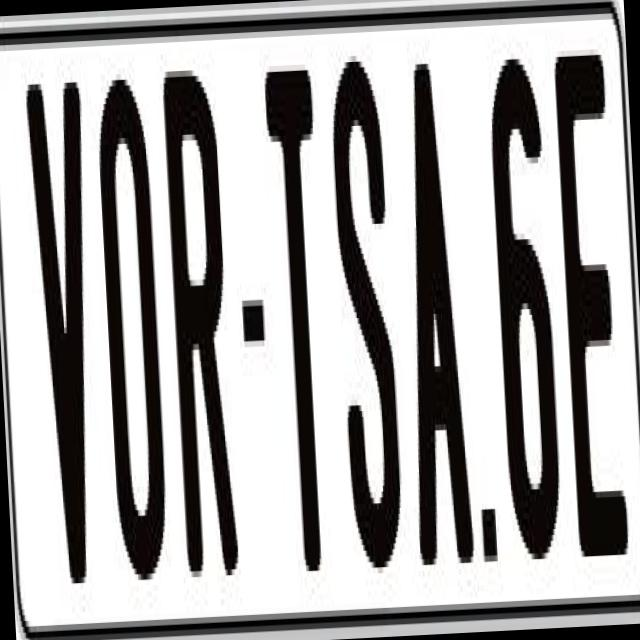0: (92, 78, 176, 598)
6: (486, 47, 566, 554)
A: (394, 62, 478, 566)
E: (552, 49, 628, 557)
R: (157, 58, 239, 572)
S: (328, 60, 410, 592)
T: (264, 64, 336, 578)
V: (22, 65, 103, 579)
